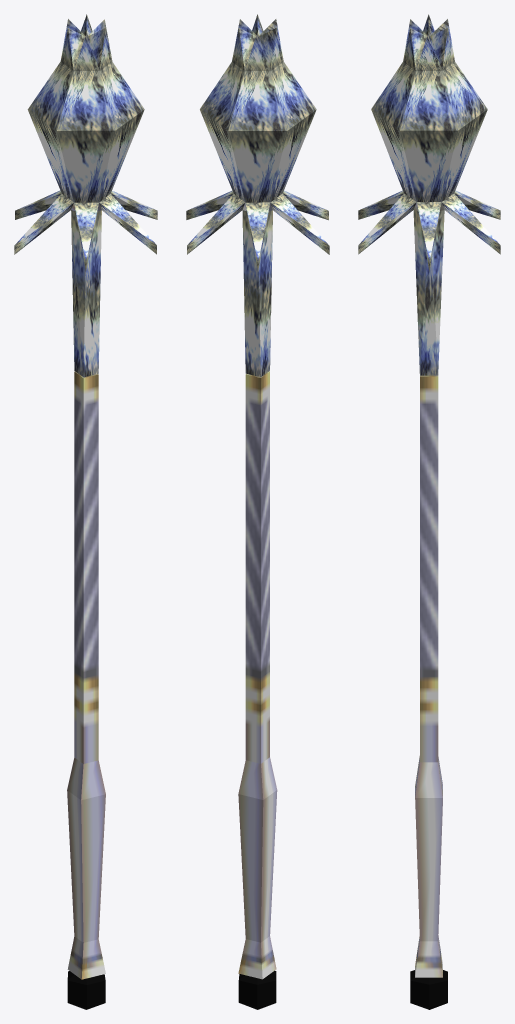
File: wavemaster01.obj
3 views of the same model, side by side, from view 1: azimuth 30°, elevation 25°; view 2: azimuth 150°, elevation 25°; view 3: azimuth 270°, elevation 25° (orthographic).
Visible parts, largest first — view 1: wavemaster01; view 2: wavemaster01; view 3: wavemaster01.
Part boxes in pixels (x1,y1,x2,y2): wavemaster01: (14,14,157,1009); wavemaster01: (186,14,329,1009); wavemaster01: (358,14,500,1009).
Bounding box in the file's own units: 0.2587 × 1.7 × 0.2224.
